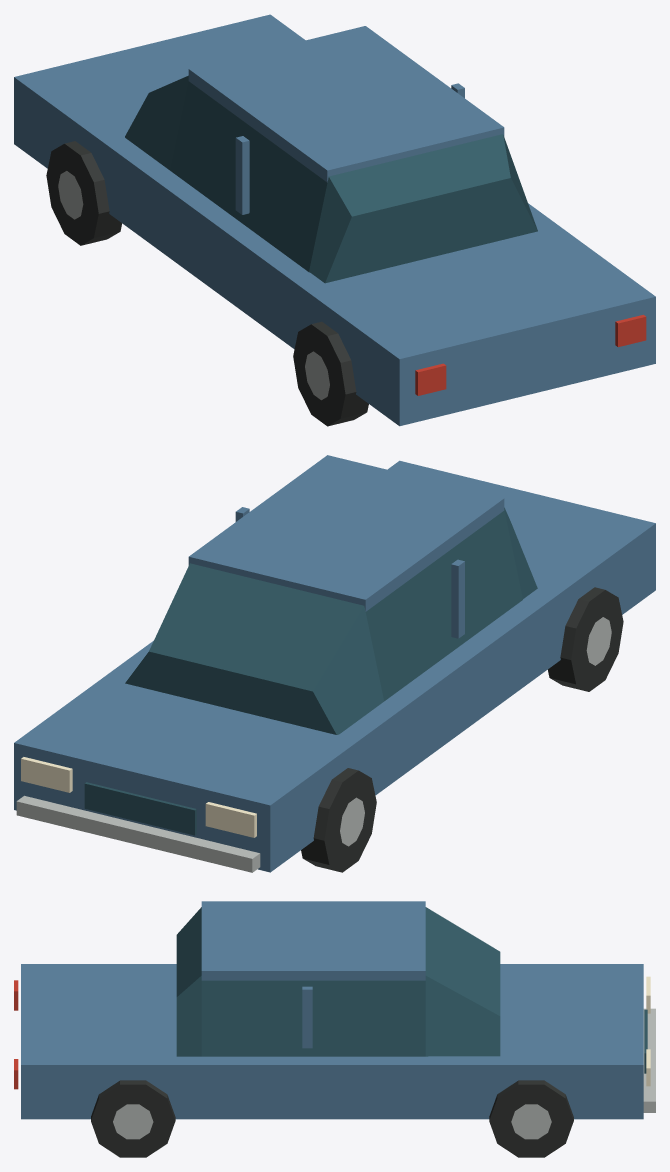
File: sedan.glb
3 renders of one model, top to bottom at view 1: azimuth 30°, elevation 25°; view 2: azimuth 150°, elevation 25°; view 3: azimuth 270°, elevation 25°, orthographic. The views are drawn at different scales.
Parts seen in each view (by area): view 1: SedanModel traffic_blue, SedanModel traffic_glass, SedanModel traffic_rubber, SedanModel traffic_metal, SedanModel traffic_red; view 2: SedanModel traffic_blue, SedanModel traffic_glass, SedanModel traffic_rubber, SedanModel traffic_metal, SedanModel traffic_light; view 3: SedanModel traffic_blue, SedanModel traffic_glass, SedanModel traffic_rubber, SedanModel traffic_metal.
Boxes of the visible parts, left/top/right/bottom form: SedanModel traffic_blue: left=14, top=14, right=655, bottom=426; SedanModel traffic_glass: left=125, top=75, right=537, bottom=283; SedanModel traffic_rubber: left=46, top=141, right=368, bottom=426; SedanModel traffic_metal: left=58, top=171, right=329, bottom=400; SedanModel traffic_red: left=415, top=314, right=646, bottom=395; SedanModel traffic_blue: left=14, top=455, right=655, bottom=872; SedanModel traffic_glass: left=84, top=507, right=537, bottom=835; SedanModel traffic_rubber: left=301, top=587, right=623, bottom=872; SedanModel traffic_metal: left=16, top=617, right=611, bottom=872; SedanModel traffic_light: left=21, top=757, right=256, bottom=837; SedanModel traffic_blue: left=21, top=901, right=643, bottom=1119; SedanModel traffic_glass: left=176, top=907, right=647, bottom=1073; SedanModel traffic_rubber: left=91, top=1080, right=573, bottom=1157; SedanModel traffic_metal: left=113, top=1008, right=655, bottom=1139.
Size of the model in its own units: 2.11 by 1.48 by 5.16.
